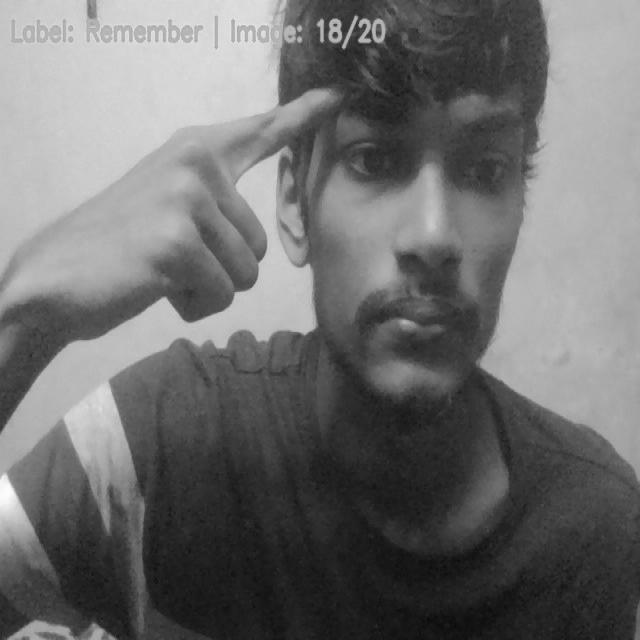Remember: (50, 89, 339, 361)
